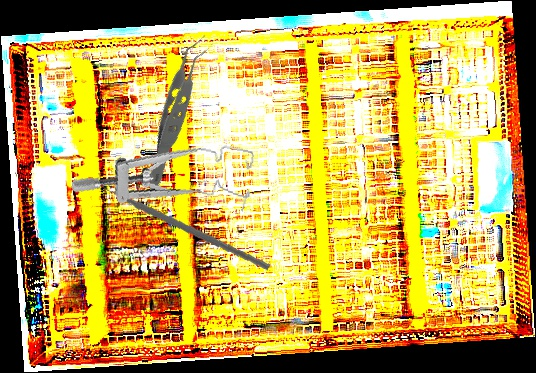Chopper: (97, 153, 271, 288)
Speculum: (70, 117, 259, 228)
Tissue Forceps: (95, 31, 264, 195)
